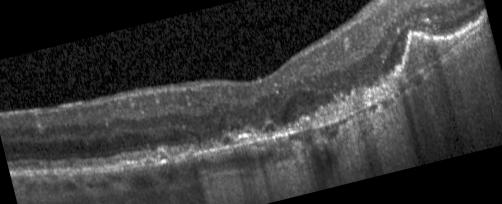subretinal_fluid: (401, 24, 478, 78), (263, 123, 277, 133), (159, 151, 168, 160), (223, 137, 230, 143)
subretinal_hyperreflective_material: (295, 83, 394, 129)
